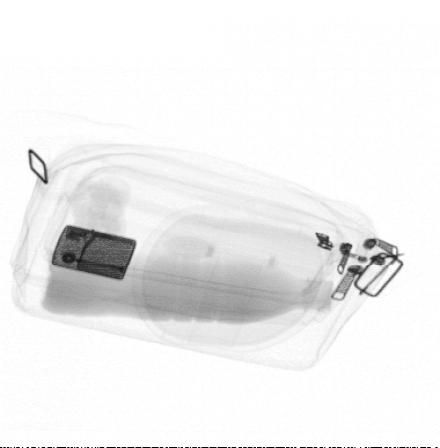Lighter: (50, 224, 137, 281)
